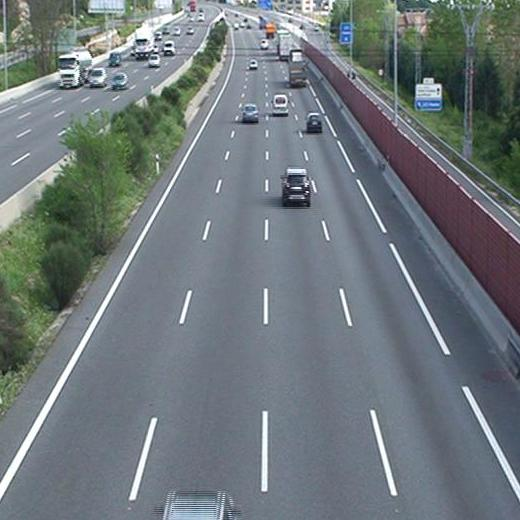car: (281, 167, 311, 204), (242, 103, 260, 123), (306, 112, 323, 132)
truck: (287, 49, 310, 87)
van: (271, 94, 291, 116), (247, 59, 258, 70)
